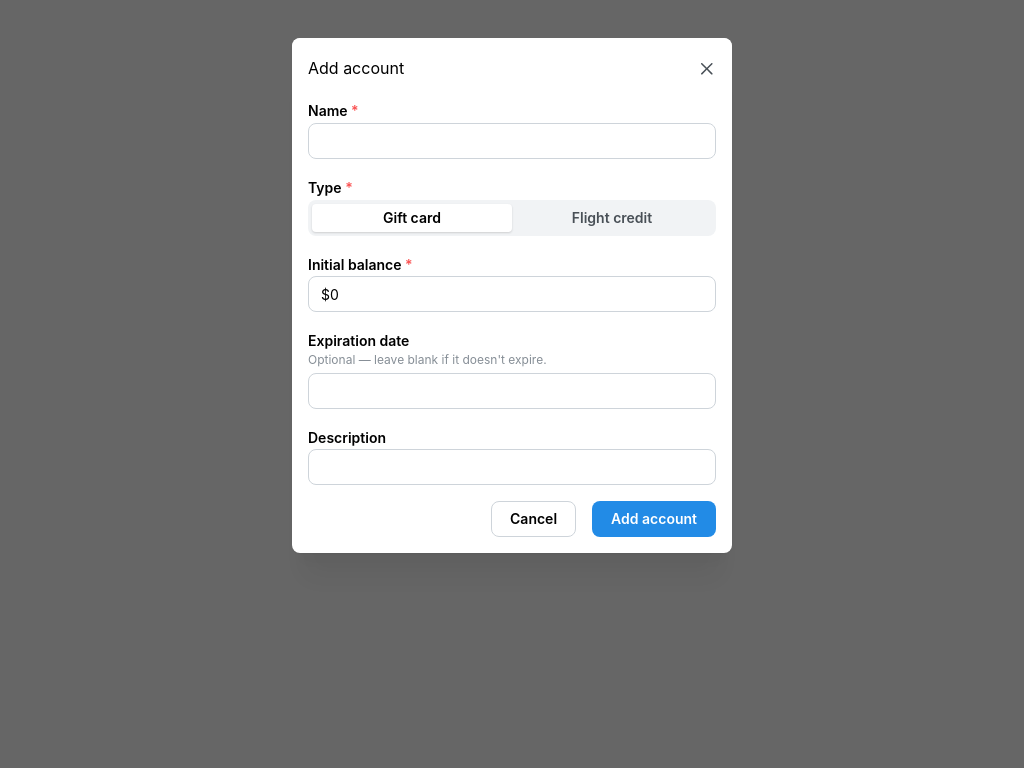
Test case: CreateAccountModal › shows the API's error under the initial balance
Type "Starbucks" into the field labelled "Name *".
click(512, 141); type("Starbucks")  # box [308,123,716,159]
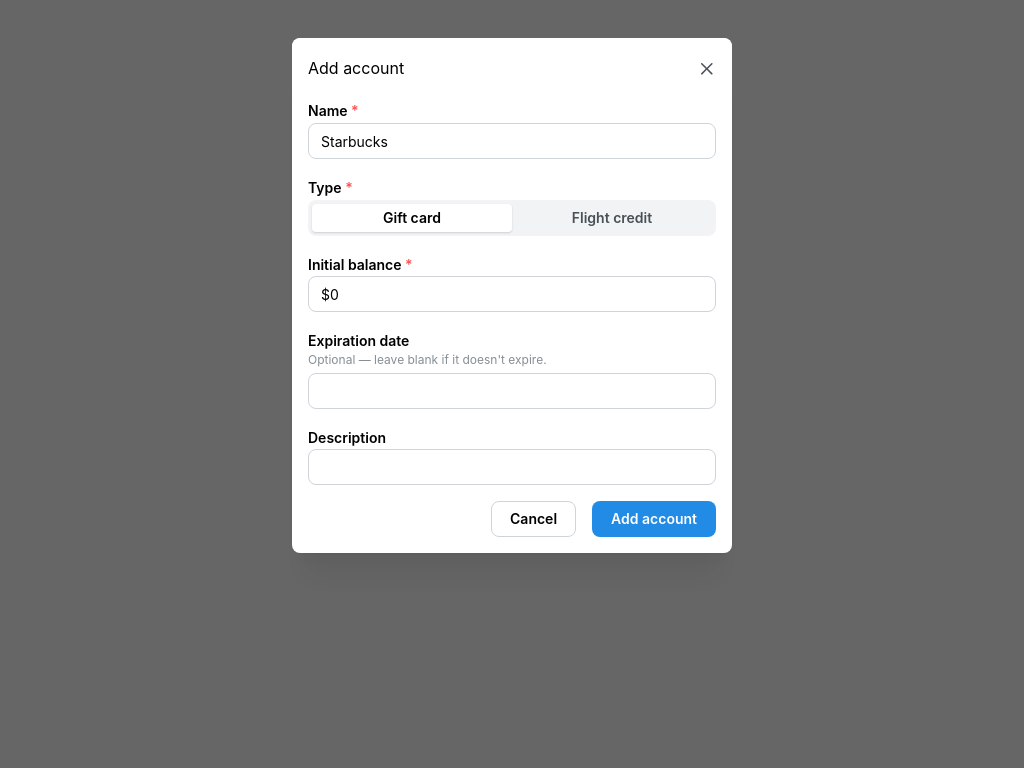
Click the button "Add account".
click(654, 520)  # box [592,502,716,538]
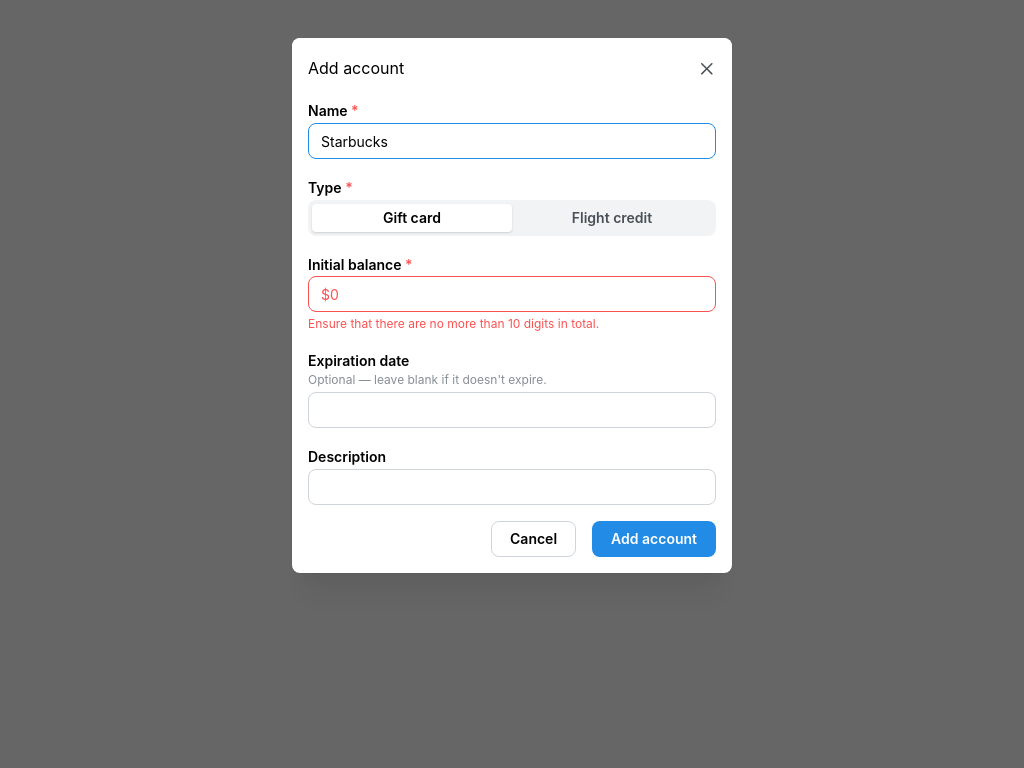
expect the text "Ensure that there are no more than 10 digits in total." is shown: met, box [308,316,599,332]
